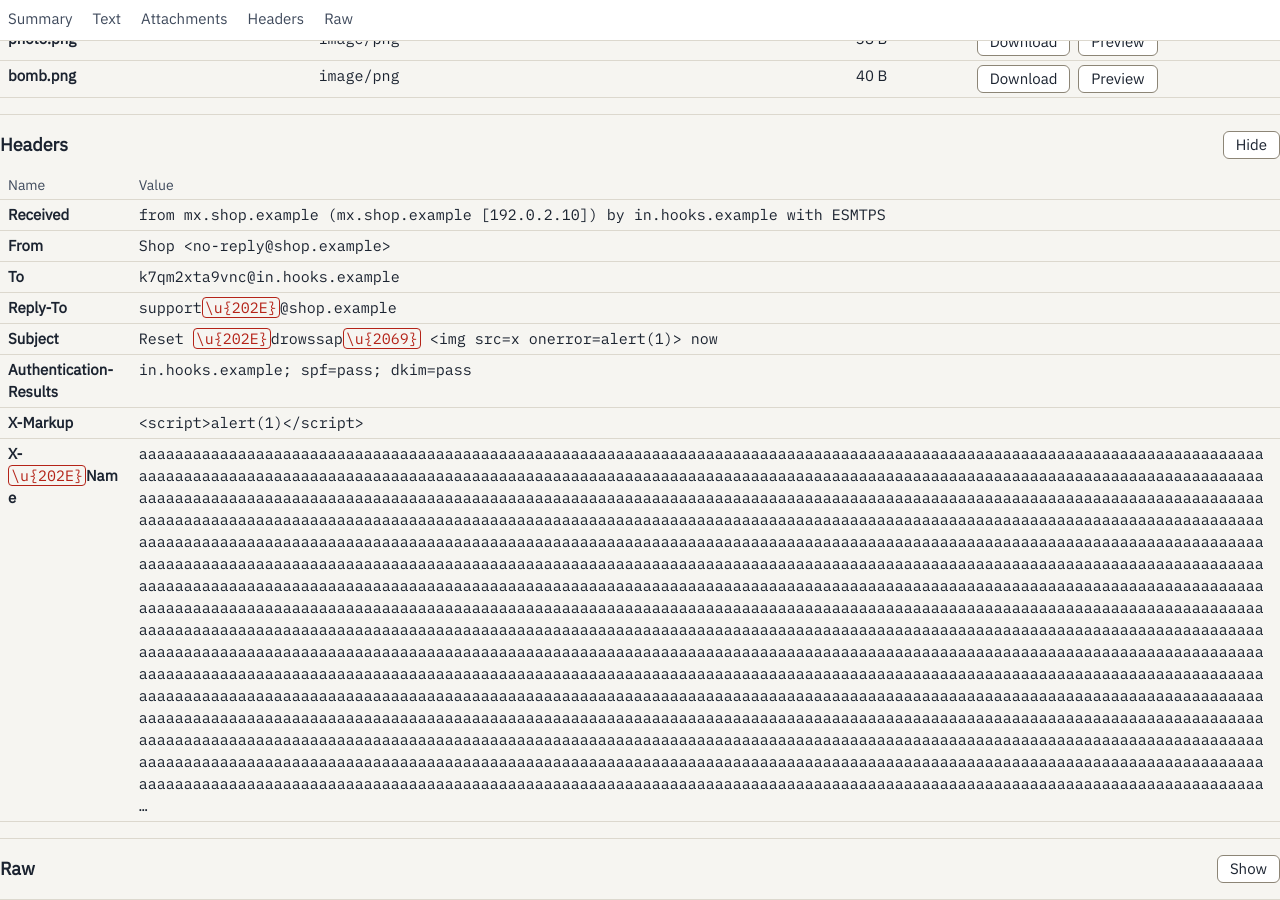
email detail › opens the raw source on demand and escapes its control characters
This screenshot has width=1280, height=900.
(page scrolled)
Expected: the button "Download .eml" is not shown
What coordinates should you click on to do the following:
click the button with aria-label "Show Raw"
I would click on:
 (1248, 869)
Its box is [1217,855,1279,883].
(page scrolled)
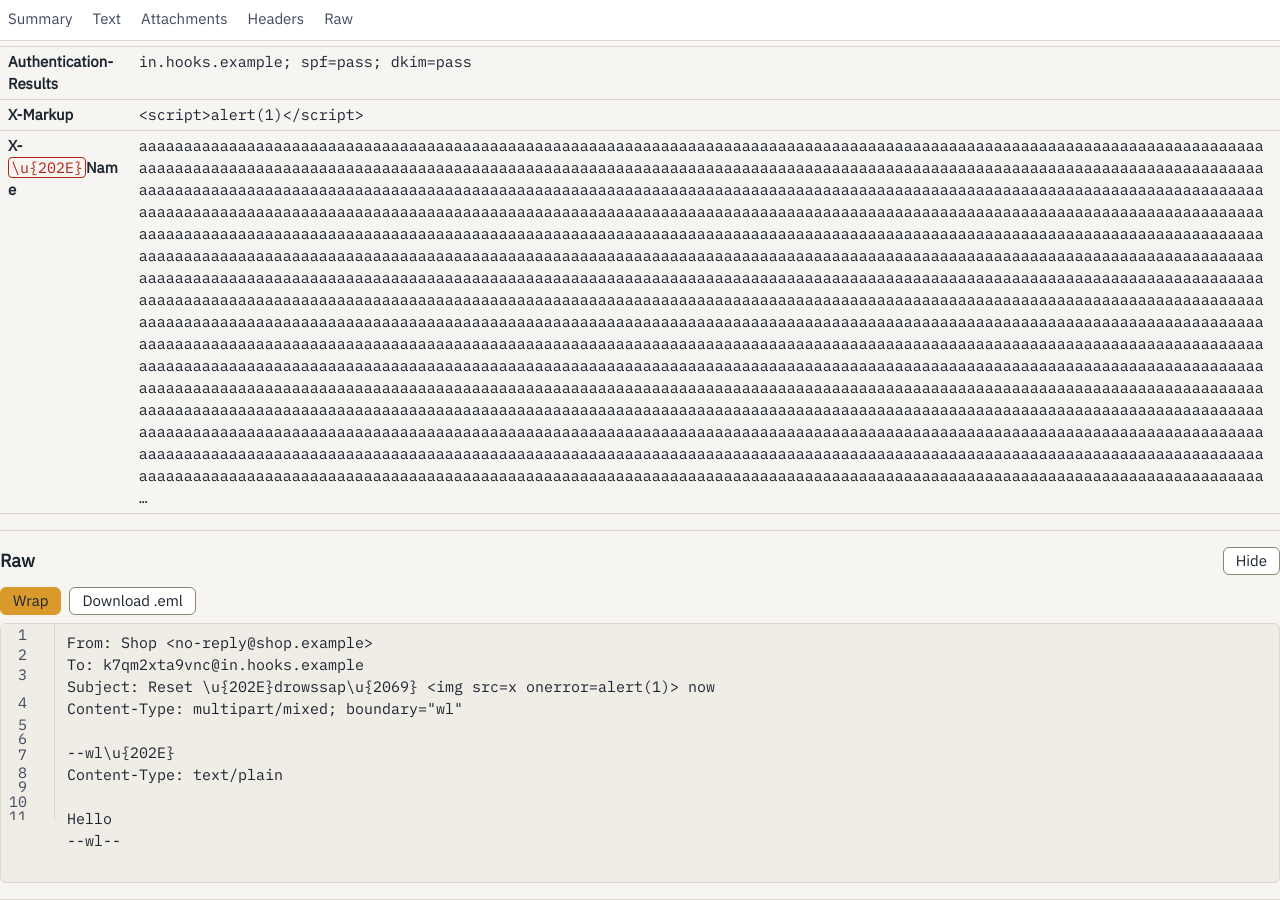
Now the button "Download .eml" is shown, box [69,587,196,615]
